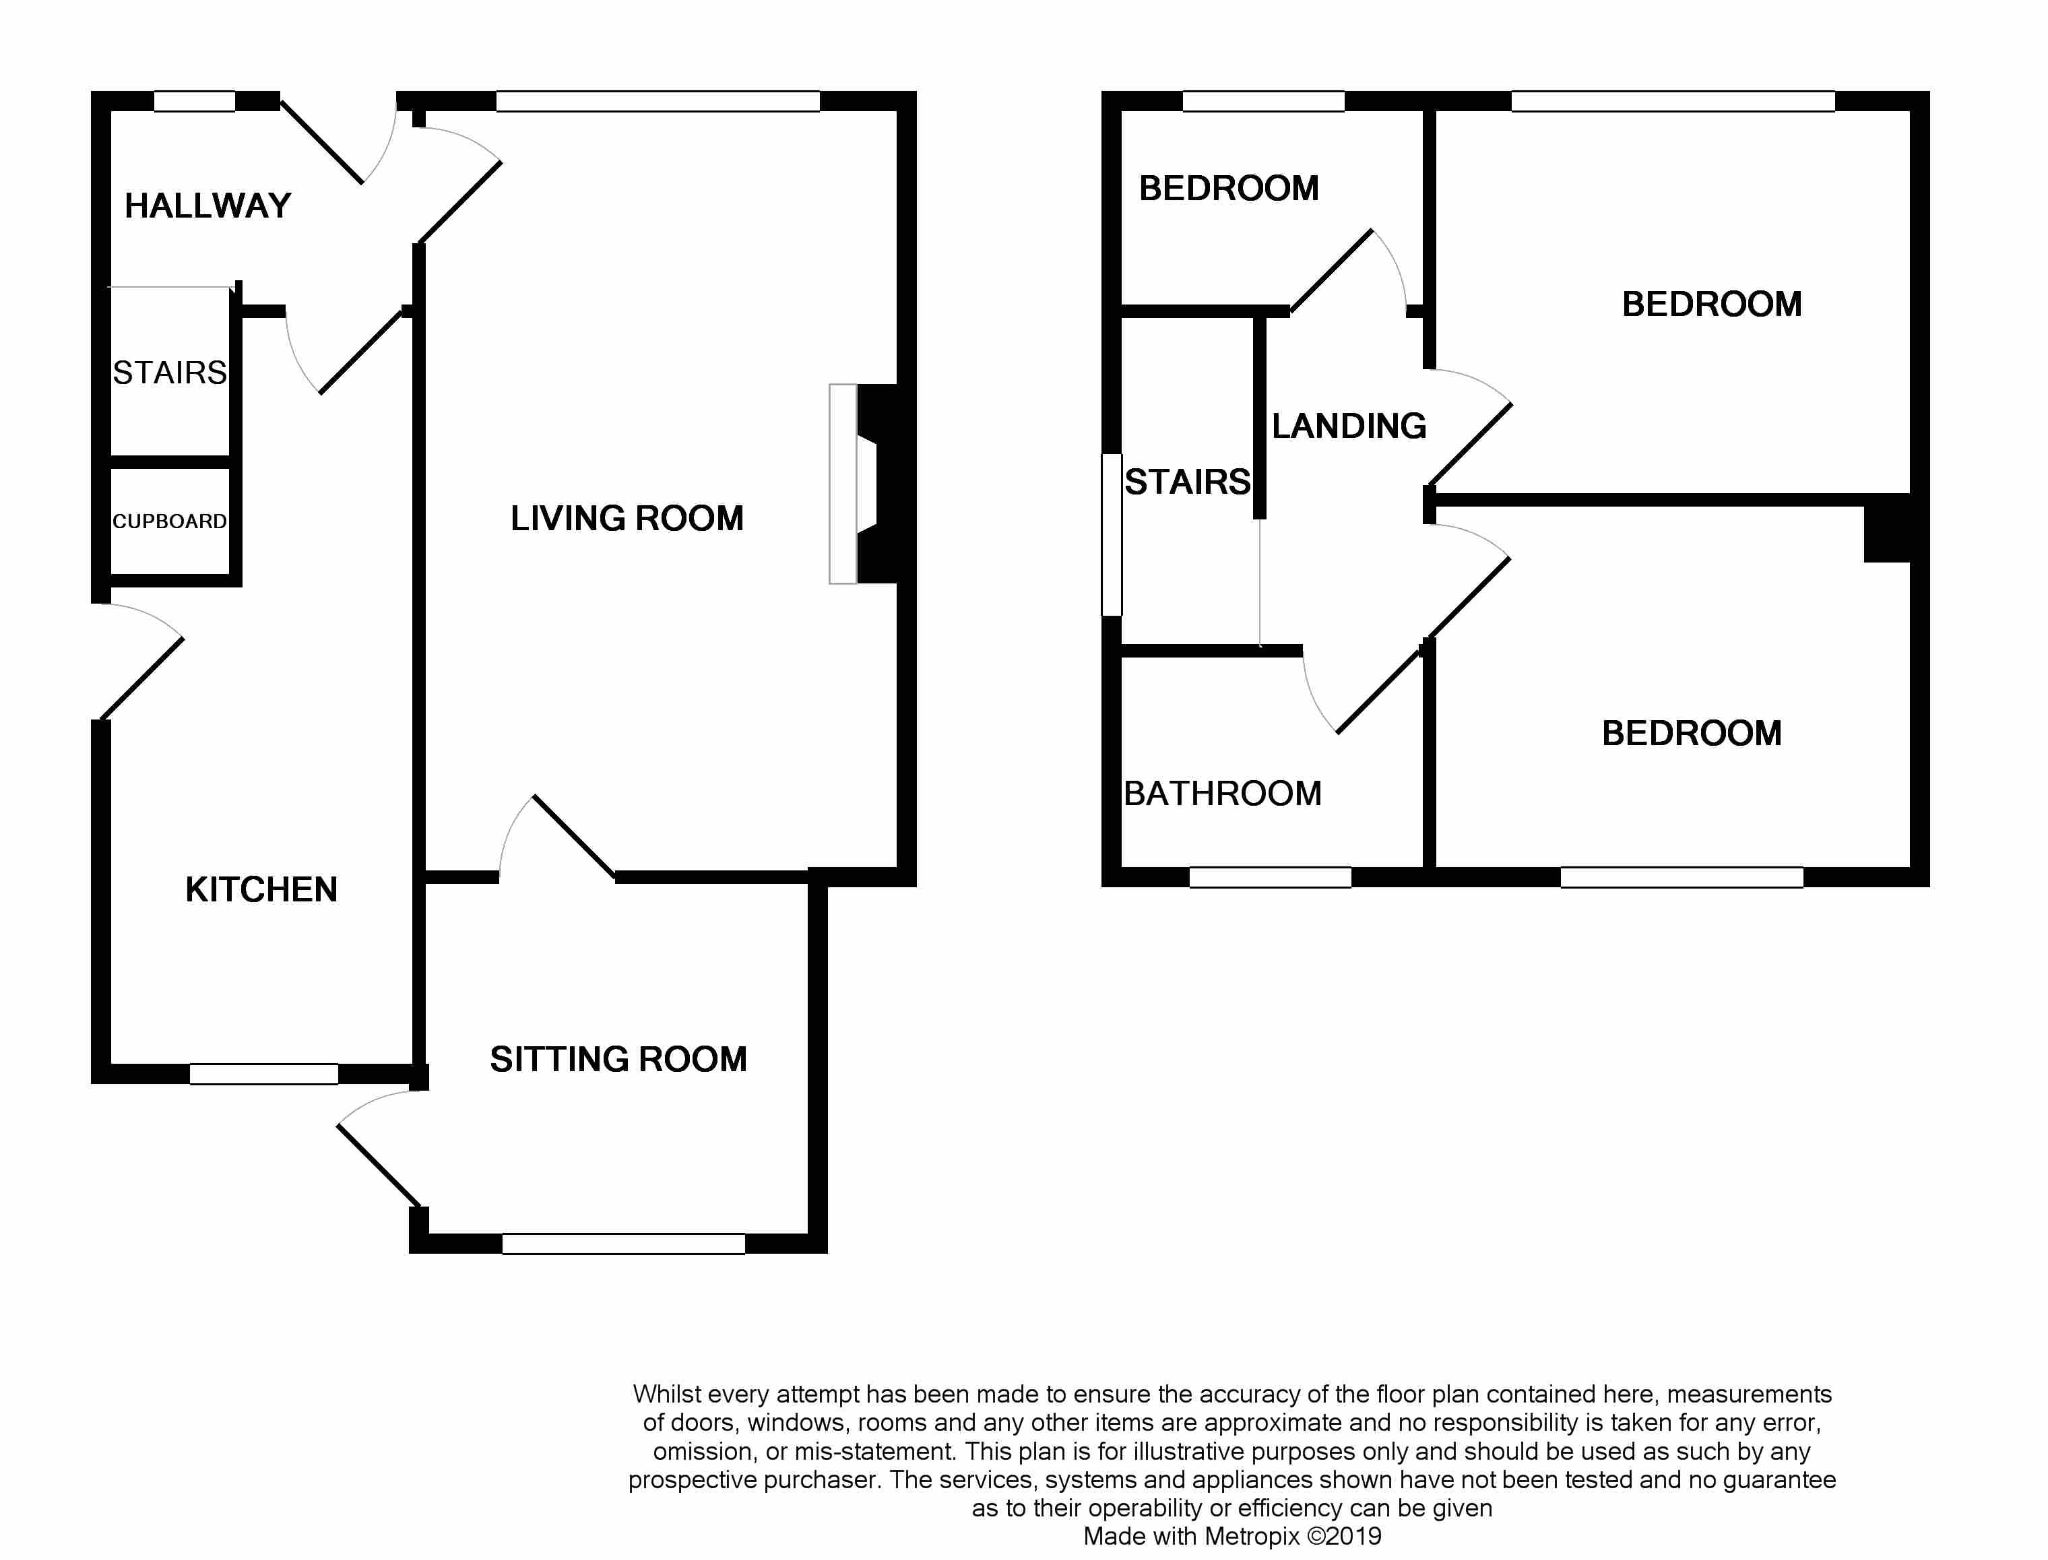wall: (413, 261, 424, 1086), (906, 98, 913, 883), (111, 93, 277, 111), (827, 882, 836, 1236), (1108, 614, 1117, 872), (1427, 108, 1437, 362), (97, 98, 102, 593), (1447, 493, 1920, 498), (1111, 110, 1117, 456), (1116, 303, 1288, 316), (1101, 646, 1293, 655), (1919, 98, 1920, 878), (749, 1234, 831, 1249), (1430, 651, 1435, 865), (826, 93, 908, 105), (1348, 98, 1519, 103), (1810, 877, 1942, 882), (113, 472, 234, 477), (413, 1239, 501, 1245), (102, 723, 103, 1062), (344, 1078, 419, 1085), (1357, 870, 1561, 872), (614, 872, 813, 873), (113, 1070, 185, 1073), (400, 92, 492, 93), (415, 877, 492, 878)
